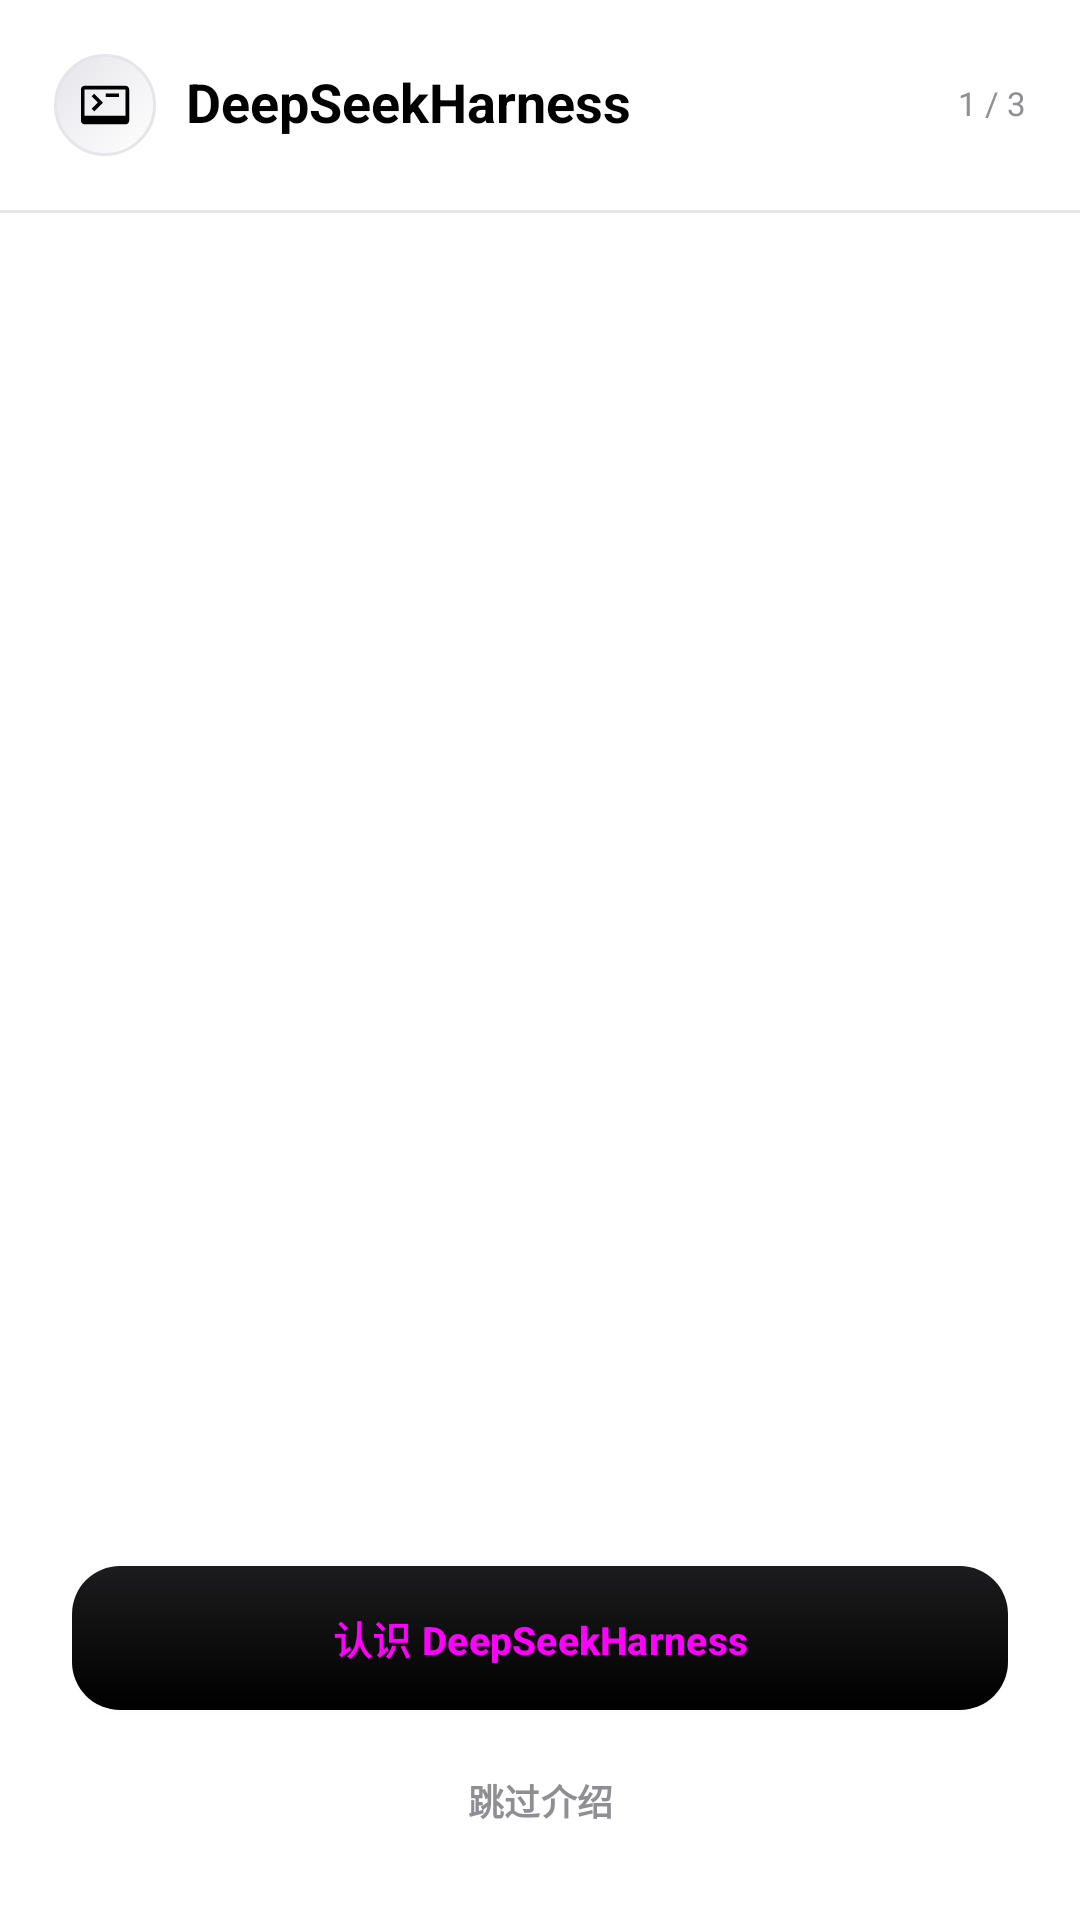

Locate icon controls on the screen. Image size 1080 x 1920, boxes as region(x1, y1, x2, y2).
terminal: region(54, 54, 156, 156)
